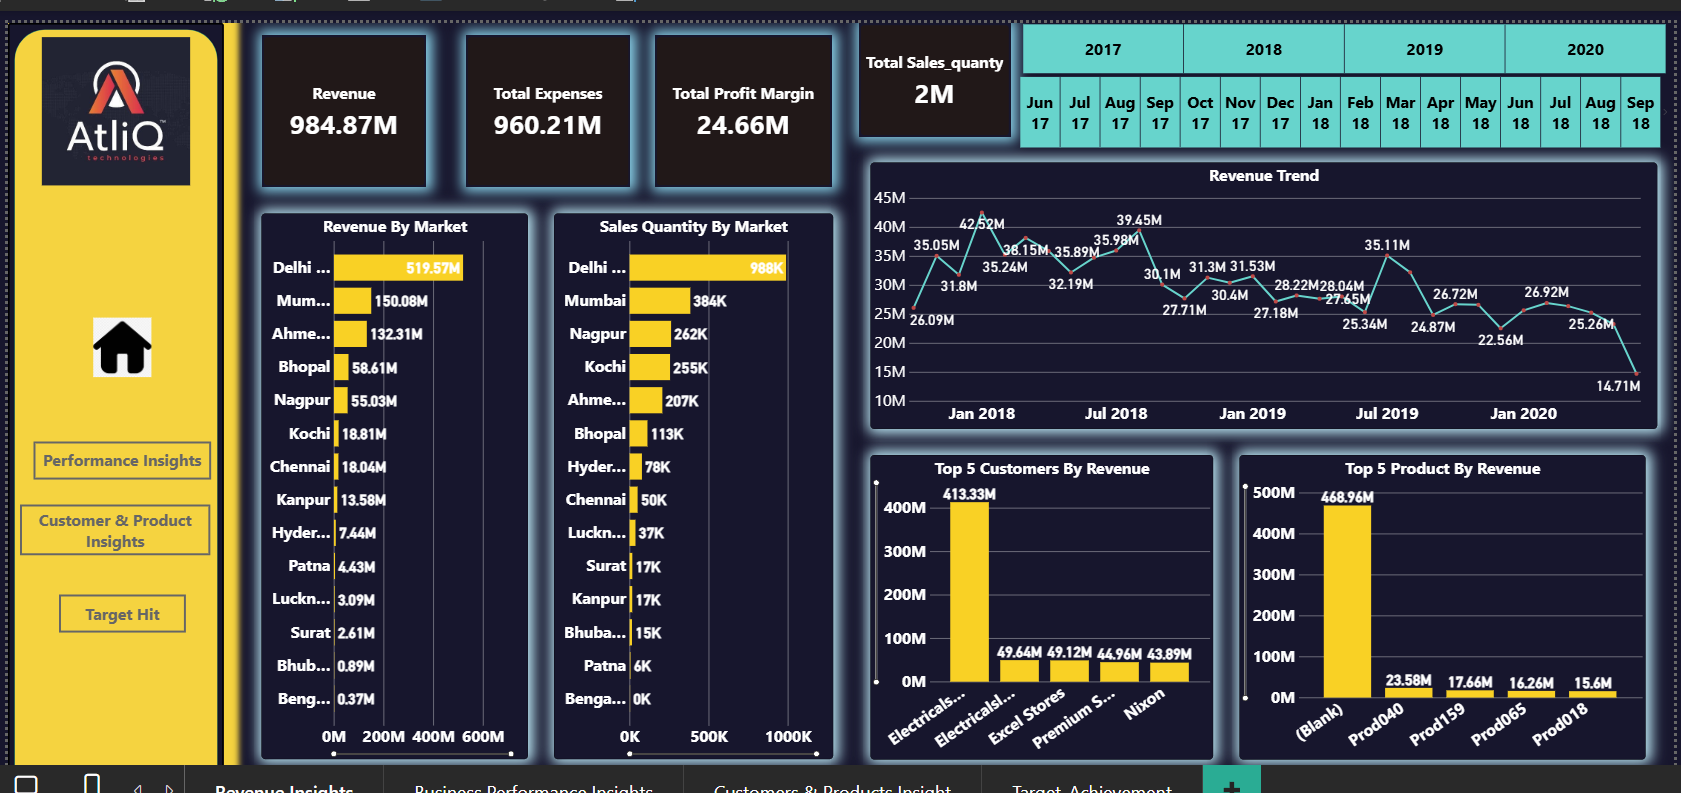

The page's visual inventory and layout, read from the dashboard file:
{"tool":"powerbi","page":{"name":"Revenue Insights","canvas":[4200,2000],"ordinal":0},"visuals":[{"type":"cardVisual","fields":{"Data":["BaseMeasure.Revenue"]},"box":[640,32,416,384],"z":0},{"type":"cardVisual","fields":{"Data":["BaseMeasure.Total Sales_quanty"]},"box":[2144,32,384,384],"z":1000},{"type":"barChart","title":"Revenue By Market","fields":{"Y":["BaseMeasure.Revenue"],"Category":["markets.markets_name"]},"box":[627.9,480.4,684.7,1505.5],"z":2000},{"type":"barChart","title":"Sales Quantity By Market","fields":{"Y":["BaseMeasure.Total Sales_quanty"],"Category":["markets.markets_name"]},"box":[1376,480,704,1504],"z":3000},{"type":"columnChart","title":"Top 5 Product By Revenue","fields":{"Category":["products.product_code"],"Y":["BaseMeasure.Revenue"]},"box":[3120,1200,1008,768],"z":4000},{"type":"columnChart","title":"Top 5 Customers By Revenue","fields":{"Category":["customers.custmer_name"],"Y":["BaseMeasure.Revenue"]},"box":[2160,1200,864,768],"z":5000},{"type":"slicer","fields":{"Values":["date.cy_date"]},"box":[2539.1,190,1661.8,161.7],"z":6000},{"type":"slicer","fields":{"Values":["date.year"]},"box":[2539.1,0,1661.8,129.4],"z":7000},{"type":"lineChart","title":"Revenue Trend","fields":{"Category":["date.cy_date.Variation.Date Hierarchy.Year","date.cy_date.Variation.Date Hierarchy.Quarter","date.cy_date.Variation.Date Hierarchy.Month","date.cy_date.Variation.Date Hierarchy.Day"],"Y":["BaseMeasure.Revenue"]},"box":[2176,480,1984,672],"z":8000},{"type":"image","box":[0,96,256,192],"z":9000},{"type":"shape","box":[0,0,544,2048],"z":10000},{"type":"actionButton","box":[64,1056,448,96],"z":11000},{"type":"actionButton","box":[128,1440,320,96],"z":12000},{"type":"actionButton","box":[32,1216,480,128],"z":13000},{"type":"image","box":[0,32,544,384],"z":14000},{"type":"image","box":[64,736,448,160],"z":15000},{"type":"cardVisual","fields":{"Data":["BaseMeasure.Total Expenses"]},"box":[1152,32,416,384],"z":16000},{"type":"cardVisual","fields":{"Data":["BaseMeasure.Total Profit Margin"]},"box":[1632,32,448,384],"z":17000}]}

Visuals, with their boxes on the page's 4200x2000 design canvas (x1, y1, x2, y2). These are canvas units, not pixel positions in the 1681x793 screenshot, which may show the page scaled, cropped or inside an application window:
cardVisual - BaseMeasure.Revenue: l=640, t=32, r=1056, b=416
cardVisual - BaseMeasure.Total Sales_quanty: l=2144, t=32, r=2528, b=416
"Revenue By Market" barChart: l=628, t=480, r=1313, b=1986
"Sales Quantity By Market" barChart: l=1376, t=480, r=2080, b=1984
"Top 5 Product By Revenue" columnChart: l=3120, t=1200, r=4128, b=1968
"Top 5 Customers By Revenue" columnChart: l=2160, t=1200, r=3024, b=1968
slicer - date.cy_date: l=2539, t=190, r=4201, b=352
slicer - date.year: l=2539, t=0, r=4201, b=129
"Revenue Trend" lineChart: l=2176, t=480, r=4160, b=1152
image: l=0, t=96, r=256, b=288
shape: l=0, t=0, r=544, b=2048
actionButton: l=64, t=1056, r=512, b=1152
actionButton: l=128, t=1440, r=448, b=1536
actionButton: l=32, t=1216, r=512, b=1344
image: l=0, t=32, r=544, b=416
image: l=64, t=736, r=512, b=896
cardVisual - BaseMeasure.Total Expenses: l=1152, t=32, r=1568, b=416
cardVisual - BaseMeasure.Total Profit Margin: l=1632, t=32, r=2080, b=416
